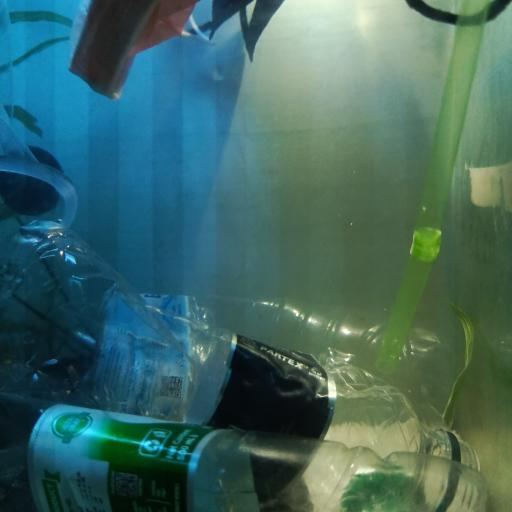bottle_cap: (3, 145, 62, 213)
mask: (70, 0, 198, 102)
plastic_bottle: (0, 220, 479, 511), (3, 294, 468, 426), (0, 389, 488, 511)
plastic_cup: (1, 0, 79, 223)
plastic_straw: (376, 0, 489, 361)
